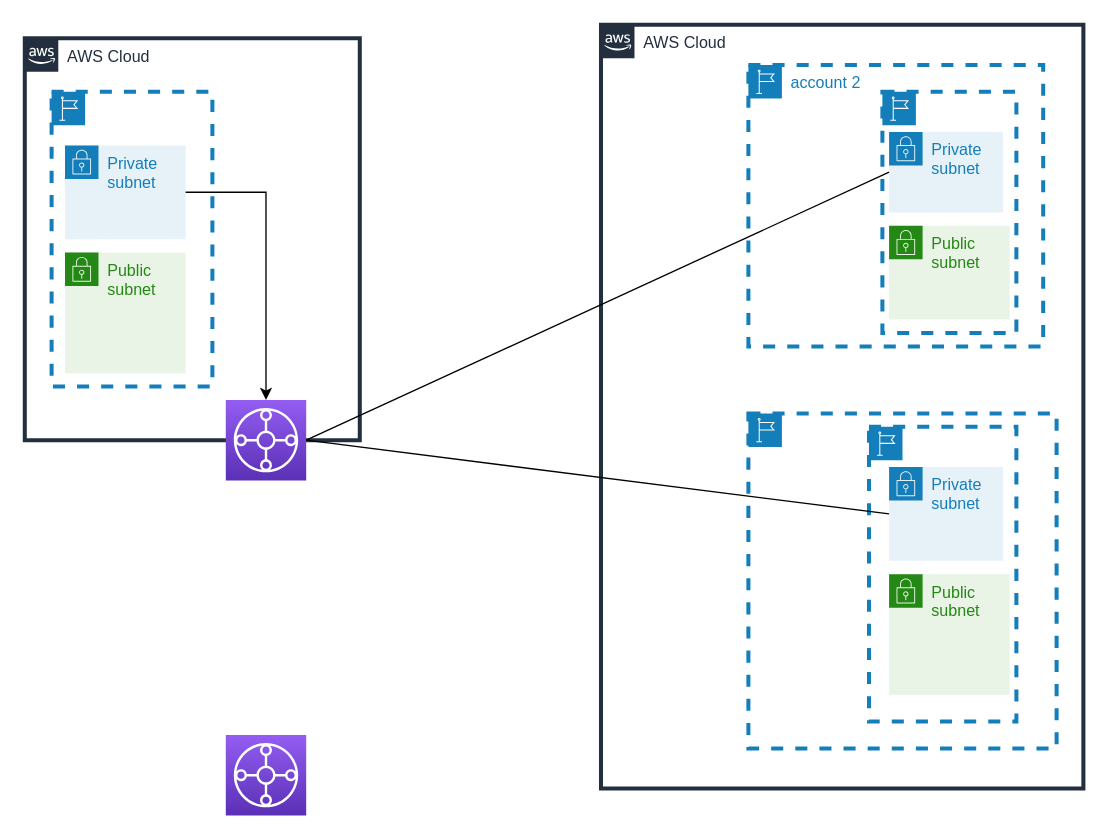
This 1108x839 diagram has some shape labels left out. The box of each missing label's shape, as (x1, y1, x2, y2) in pixels:
account 3: (746, 411, 1058, 750)
us-east-2a: (880, 89, 1018, 334)
us-east-2a - cloudtrans: (49, 89, 214, 388)
us-west-1a: (866, 424, 1018, 723)
